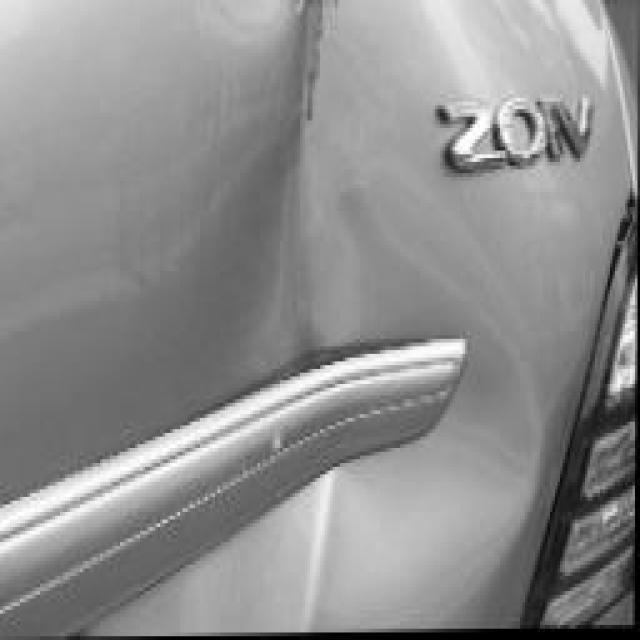Dickey: (220, 0, 552, 634)
